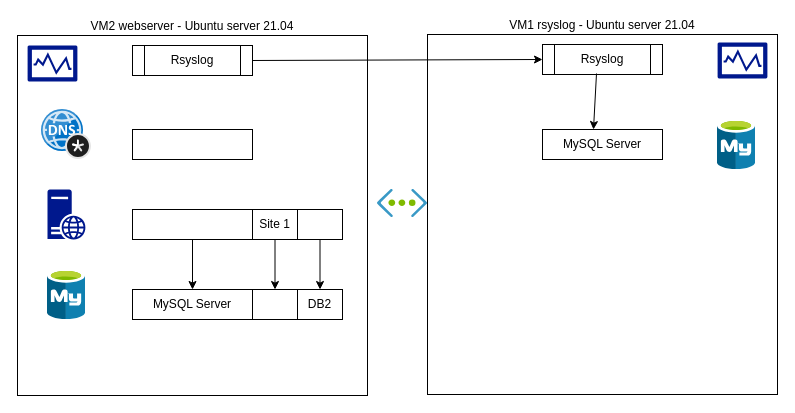
The diagram is 795 pixels wide and 413 high, and some of its shapes have lost their labels. Here are the shapes that lost their labels. From the top down, the centre of each, then its label:
At pixel 192 144: "DNS Server".
At pixel 192 224: "Apache / PHP Server".
At pixel 319 224: "Site 2".
At pixel 275 304: "DB1".
